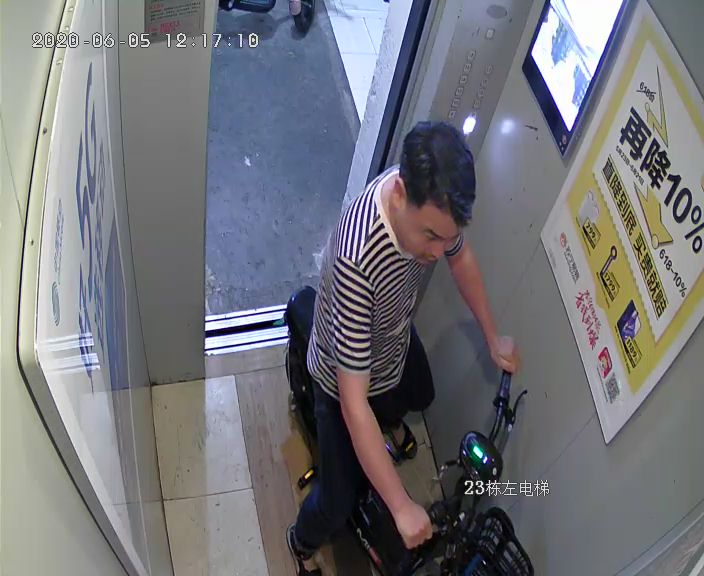Electric-bicycle: (233, 282, 534, 576)
